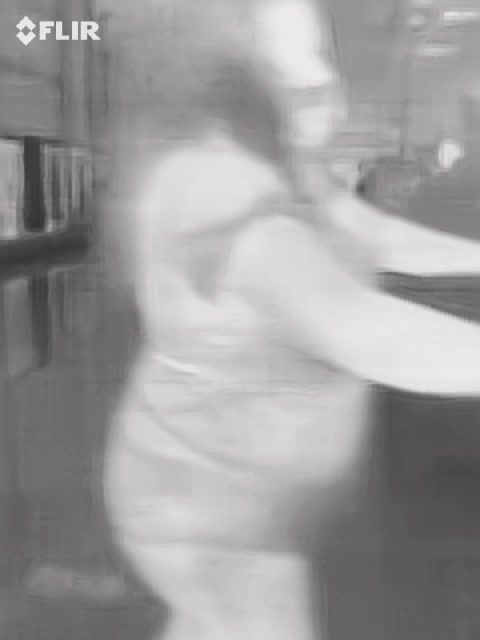head: (153, 1, 346, 155)
